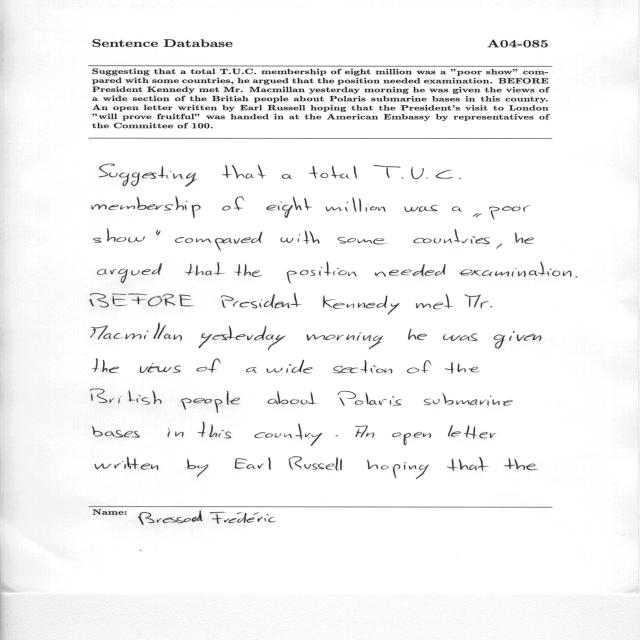word: (92, 197, 201, 218), (99, 164, 197, 187), (199, 326, 286, 350), (459, 262, 572, 277), (175, 232, 262, 251), (91, 323, 182, 341), (90, 293, 194, 308), (323, 295, 400, 315), (254, 424, 322, 446), (287, 262, 357, 283), (180, 391, 240, 413), (97, 263, 162, 283), (307, 333, 383, 350), (373, 165, 461, 179), (221, 293, 302, 308), (367, 460, 429, 479), (424, 393, 513, 406), (90, 389, 162, 405), (414, 229, 490, 244), (266, 197, 312, 218), (338, 391, 402, 406), (375, 264, 445, 277), (326, 197, 386, 212), (494, 331, 542, 349), (95, 457, 158, 470), (334, 360, 393, 373), (289, 457, 342, 471), (93, 229, 145, 243), (267, 391, 317, 405), (448, 425, 496, 439), (267, 360, 313, 374), (309, 166, 357, 179), (222, 165, 266, 179), (489, 205, 530, 220), (447, 457, 489, 471), (93, 426, 140, 438), (185, 262, 225, 276), (416, 294, 453, 309), (198, 422, 231, 438), (281, 231, 320, 244), (392, 432, 431, 445), (235, 457, 271, 470), (445, 362, 480, 374), (140, 363, 181, 373), (504, 458, 538, 470), (92, 358, 119, 373), (337, 237, 387, 245), (465, 295, 493, 309), (187, 459, 208, 477), (234, 264, 262, 277), (197, 358, 221, 373), (407, 360, 431, 373), (223, 197, 245, 211), (443, 333, 477, 341), (405, 205, 438, 212), (515, 232, 534, 244), (355, 426, 374, 438), (408, 329, 427, 340), (168, 428, 184, 437), (246, 367, 257, 373), (282, 174, 292, 179), (452, 207, 462, 212), (473, 213, 482, 218), (497, 243, 503, 249), (156, 229, 161, 236), (576, 276, 578, 278), (336, 435, 338, 437)
